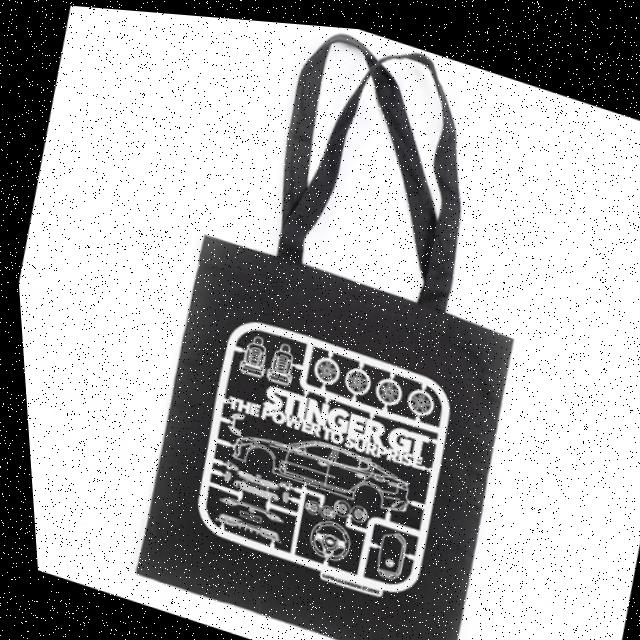ecobag: (79, 5, 608, 640)
